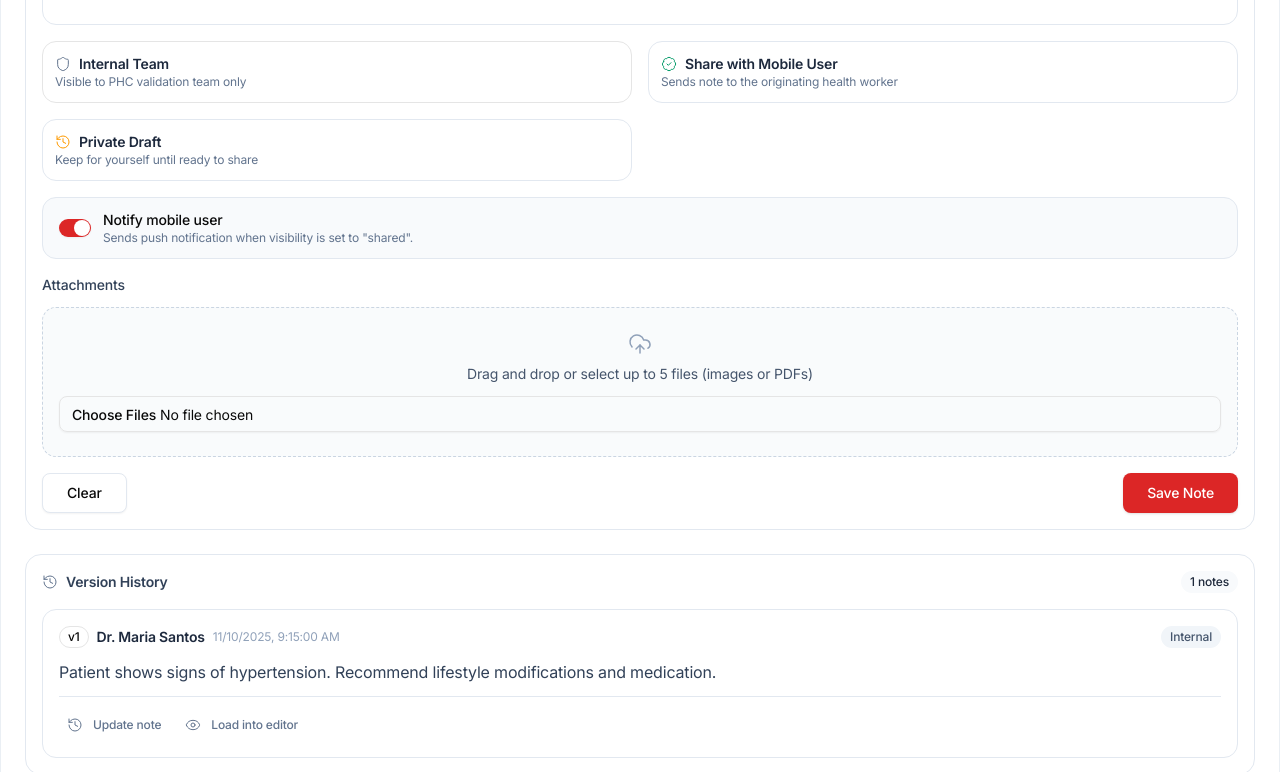
Test: ClinicalNotesEditor › Clear Button › clears editor content when clear button clicked
(page scrolled)
Step 1. Click the button "Clear" → x=84, y=493, box [42, 473, 127, 513]
(page scrolled)
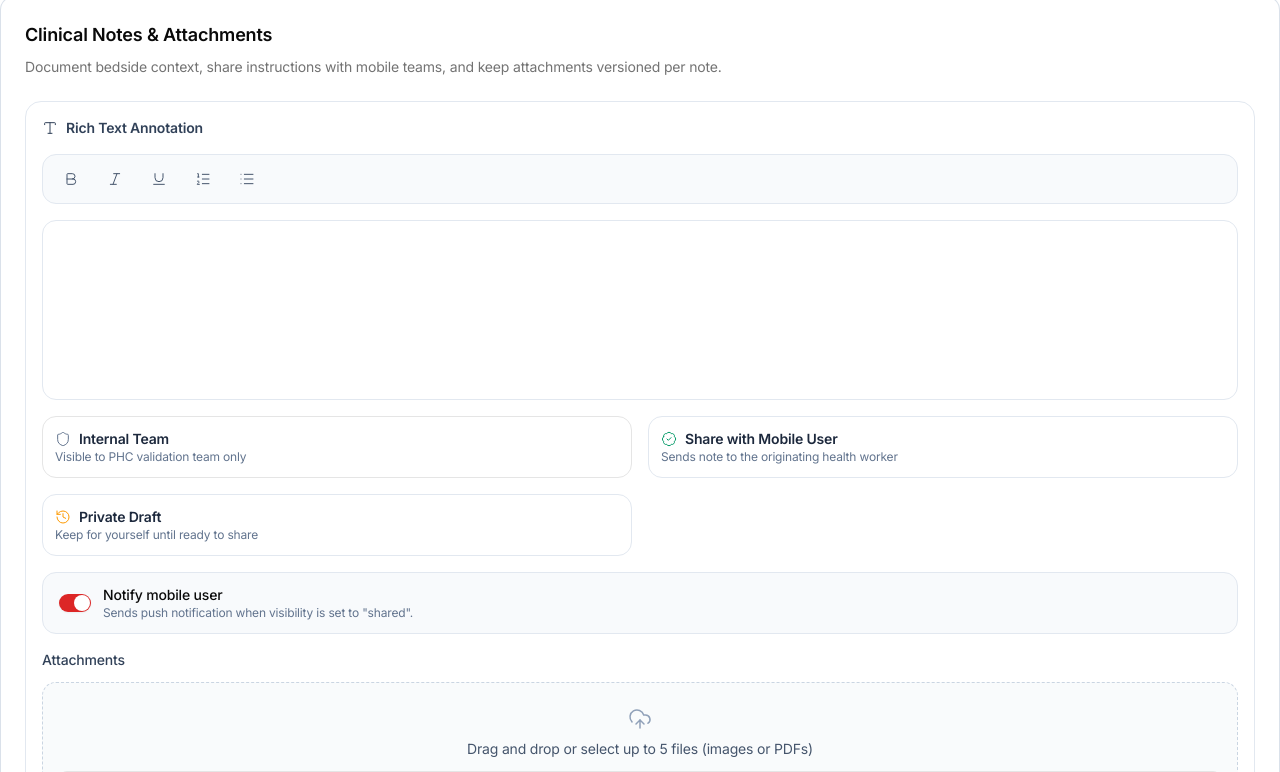
Expected: the text box named "Clinical notes rich text editor" is empty, [42, 220, 1238, 400]
